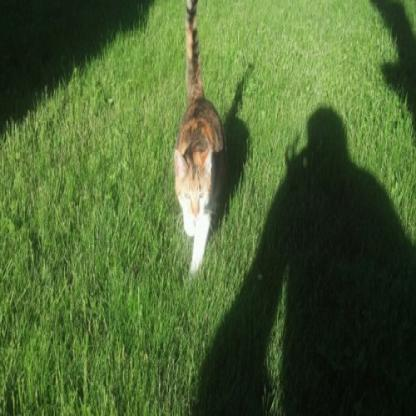Target: (171, 0, 230, 275)
